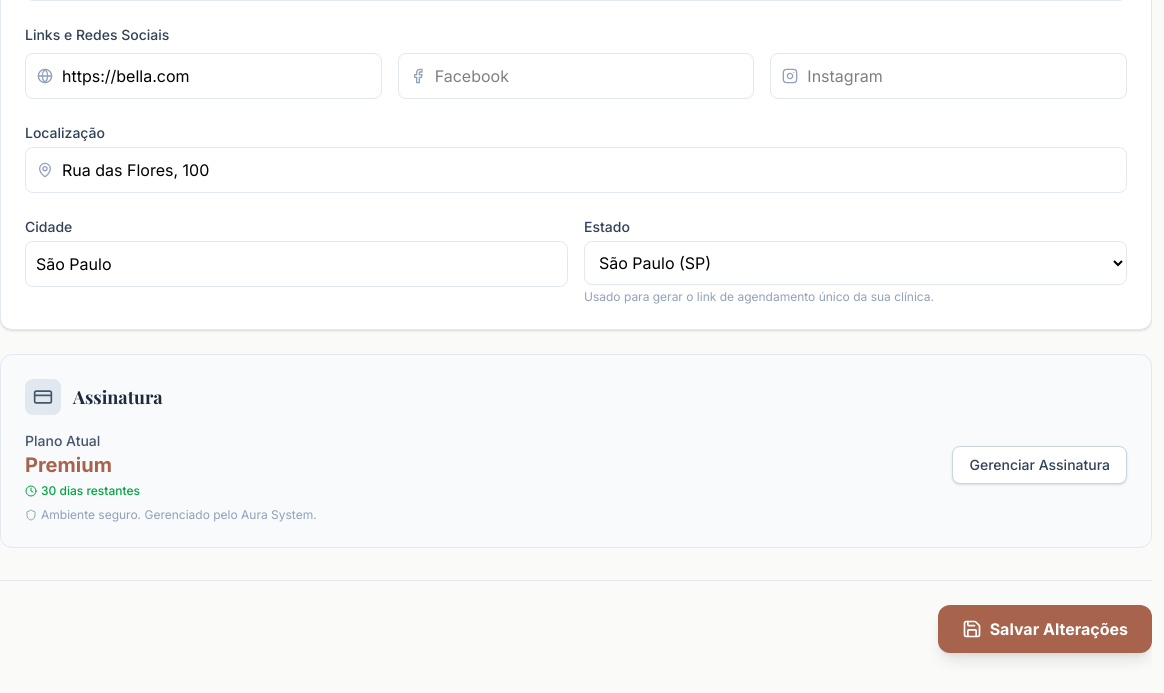
Scenario: pages/Settings — Perfil do Negócio › erro retornado por updateCompany é exibido ao usuário
(page scrolled)
Click the button "Salvar Alterações" at (1045, 629), box [938, 605, 1152, 653]
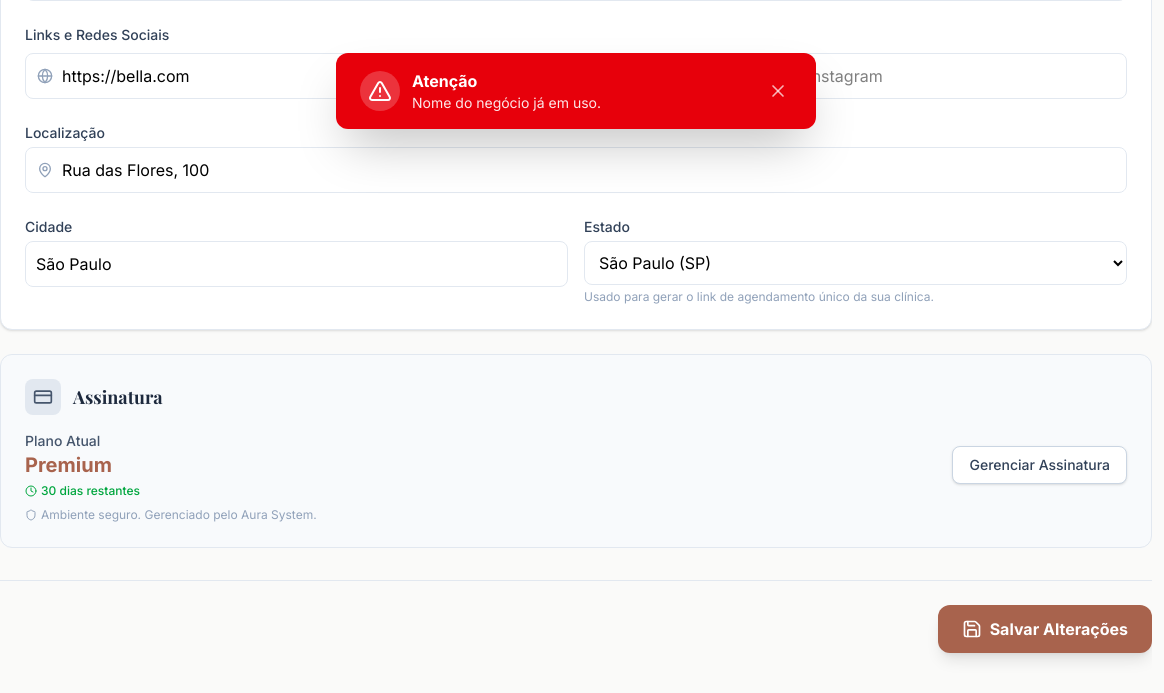
Check: the text "Nome do negócio já em uso." is shown, box [412, 93, 601, 113]
